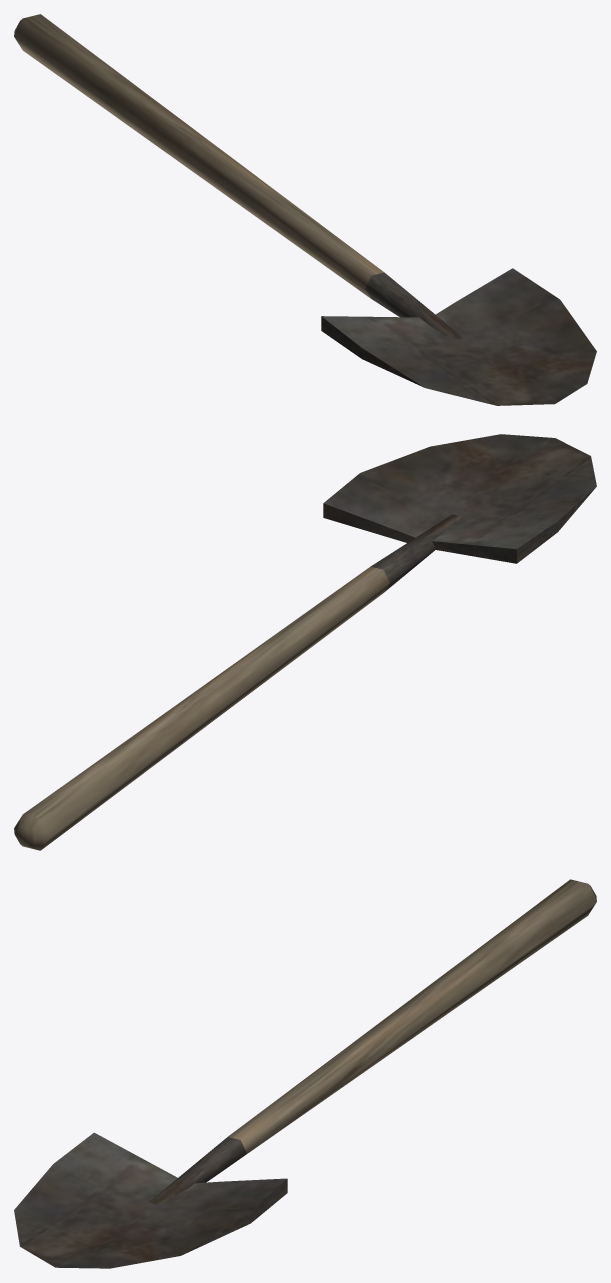
Rendered from pir_m_prp_mng_shovel.fbx.
The picture shows the model from 3 angles, top to bottom: view 1: azimuth 30°, elevation 25°; view 2: azimuth 150°, elevation 25°; view 3: azimuth 330°, elevation 25°; orthographic projection.
Parts seen in each view (by area): view 1: blade, handle; view 2: blade, handle; view 3: blade, handle.
Boxes of the visible parts, x1,y1,x2,y2 form: blade: [321, 268, 596, 405]; handle: [14, 14, 383, 298]; blade: [323, 434, 596, 592]; handle: [14, 566, 389, 850]; blade: [14, 1132, 287, 1268]; handle: [228, 879, 596, 1157].
Bounding box in the file's own units: 92.53 × 18.01 × 429.
Materials: 1 (1 with a texture image).
